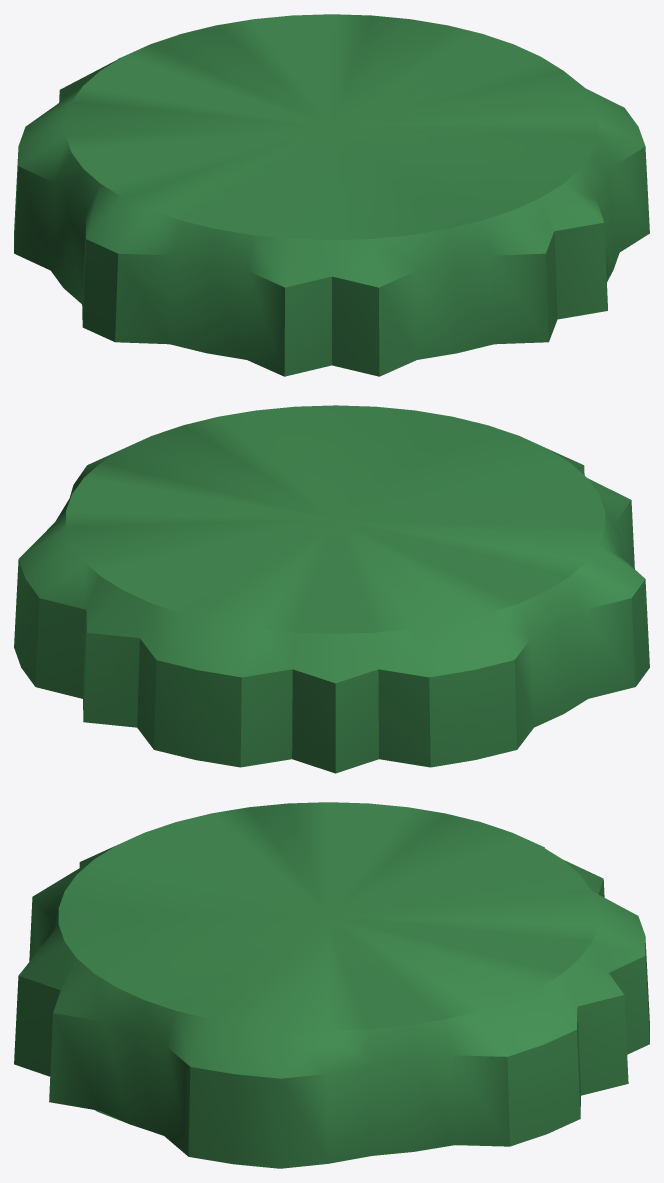
The model's file is den_bottle_cap_b.glb.
3 views of the same model, one above another, from view 1: azimuth 30°, elevation 25°; view 2: azimuth 150°, elevation 25°; view 3: azimuth 270°, elevation 25° (orthographic).
Visible parts, largest first — view 1: den_bottle_cap_b; view 2: den_bottle_cap_b; view 3: den_bottle_cap_b.
Part boxes in pixels (x1=…): den_bottle_cap_b: x1=14, y1=14, x2=649, y2=376; den_bottle_cap_b: x1=14, y1=405, x2=649, y2=773; den_bottle_cap_b: x1=14, y1=802, x2=649, y2=1168.
Size of the model in its own units: 2.95 by 0.6 by 2.94.
